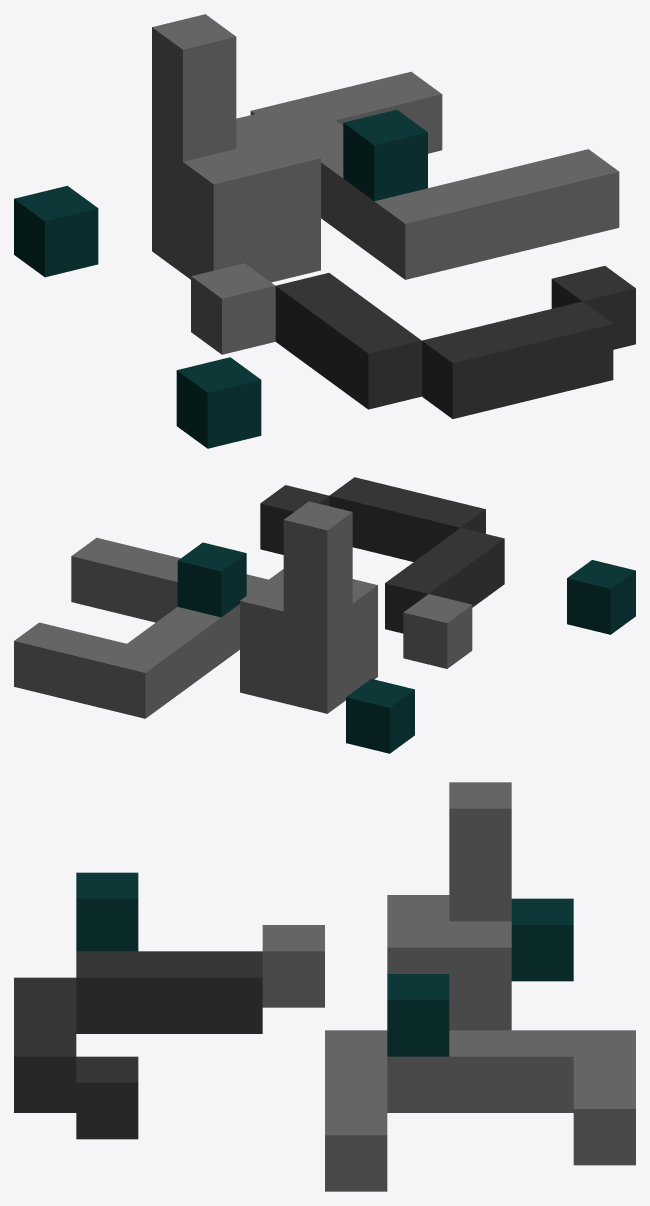
Rendered from rock7.obj.
The picture shows the model from 3 angles, top to bottom: view 1: azimuth 30°, elevation 25°; view 2: azimuth 150°, elevation 25°; view 3: azimuth 270°, elevation 25°; orthographic projection. The views are drawn at different scales.
Size of the model in its own units: 1 by 0.4 by 1.
1 material, 1 textured.
